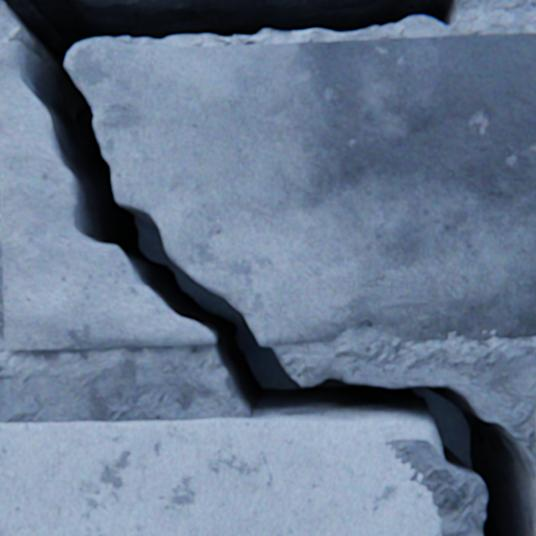brick: (0, 418, 442, 535), (534, 472, 535, 535), (534, 412, 535, 447), (417, 473, 421, 481)
broken_brick: (65, 34, 535, 346), (0, 42, 215, 349)
crack: (0, 0, 534, 535)
